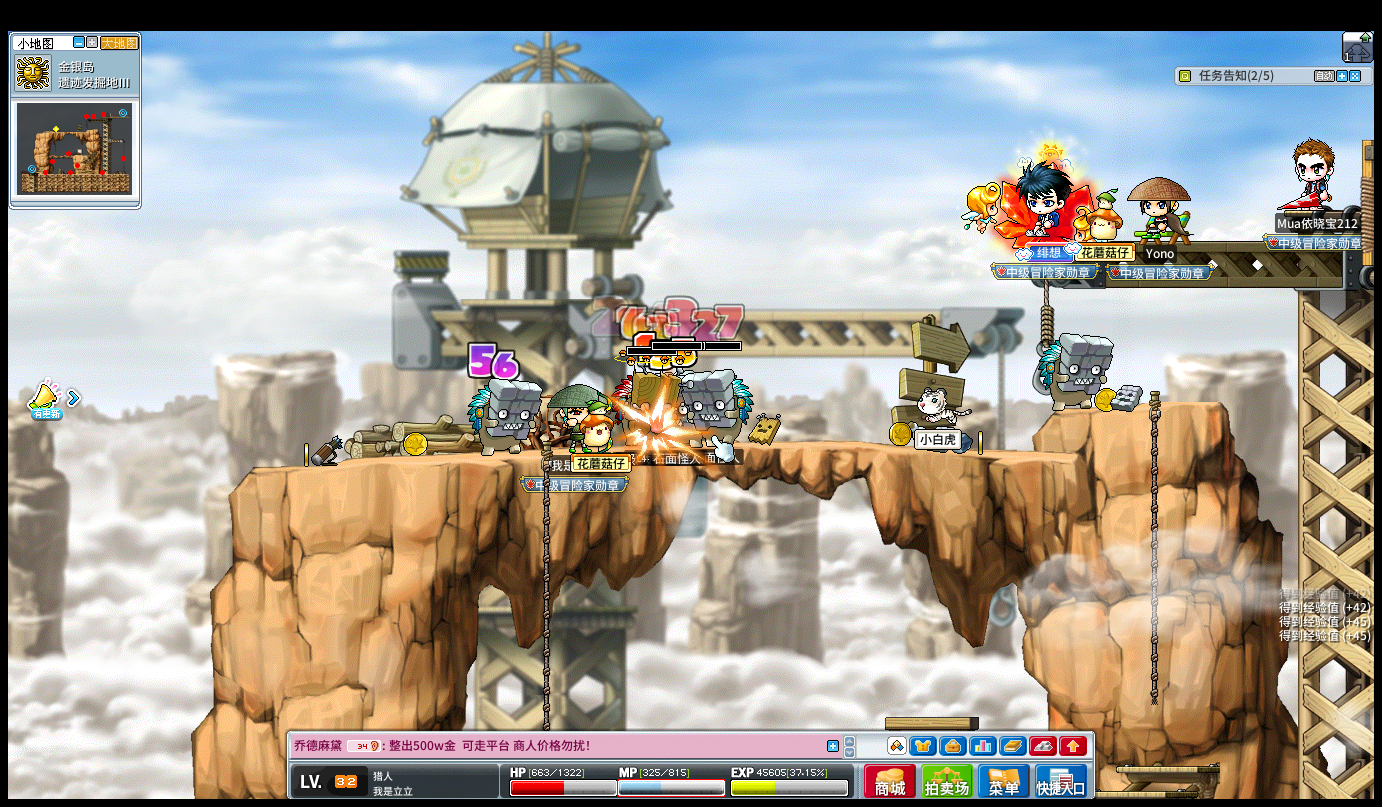floor: (207, 436, 1096, 457), (1061, 396, 1226, 413), (1114, 764, 1217, 775)
monster: (1038, 332, 1113, 412), (467, 378, 541, 457), (679, 369, 753, 441)
rope: (1146, 387, 1160, 705), (539, 444, 551, 709)
